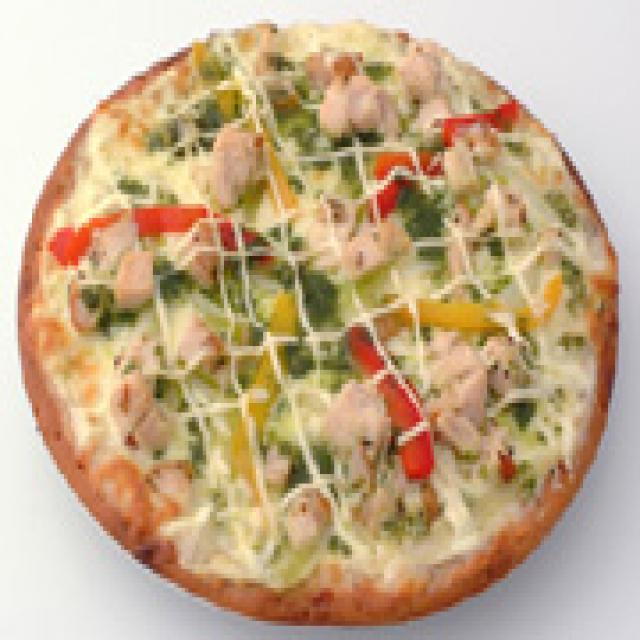汉堡快餐: (7, 5, 622, 621)
